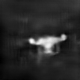plane: (27, 32, 69, 57)
